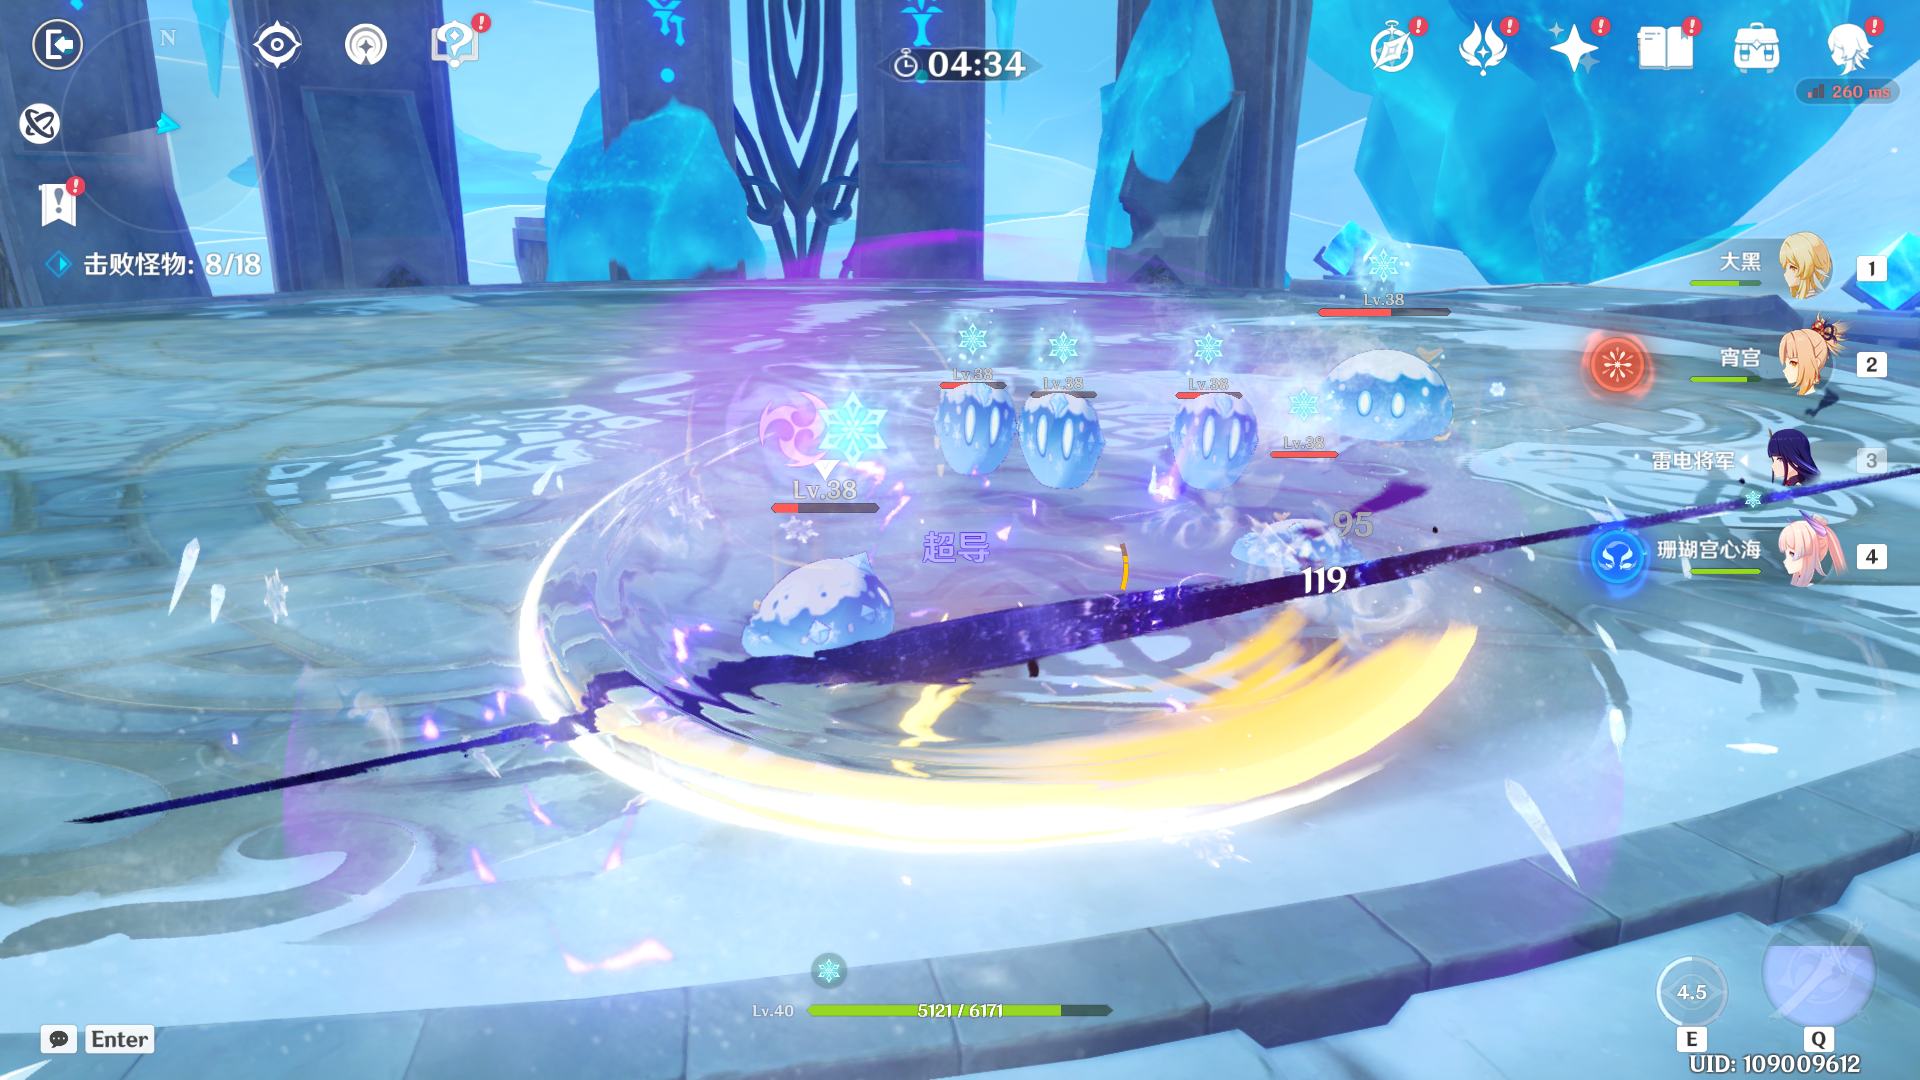slime: (717, 550, 909, 671), (1298, 330, 1462, 462), (1143, 377, 1265, 502), (923, 367, 1018, 502), (1018, 377, 1108, 502)
